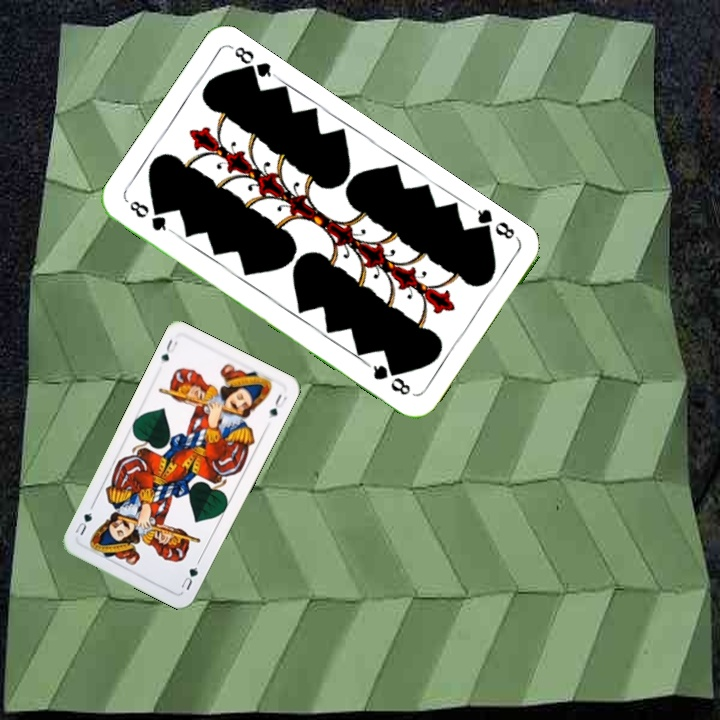G8: (469, 203, 521, 242), (125, 196, 175, 235)
GU: (177, 557, 202, 593), (157, 335, 180, 364)
